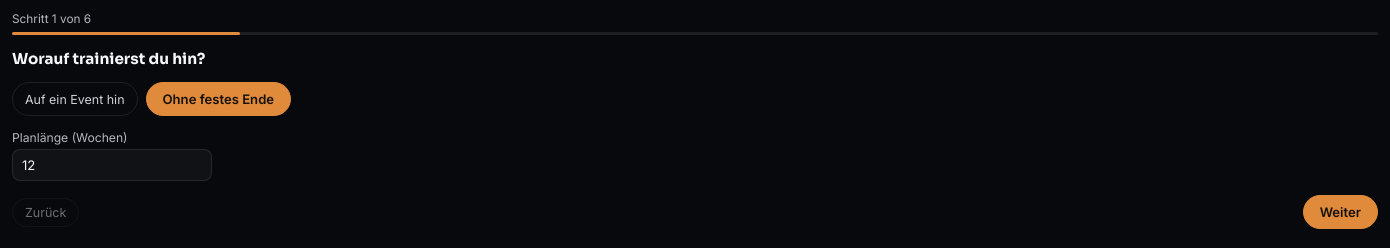
Test case: GuidedPlanQuestions › Event-Ziel mit vorhandenen Events: erstes Event ist vorgewählt
The image size is (1390, 248).
Click the button "Auf ein Event hin" at point(75, 99), box [12,82,138,116]
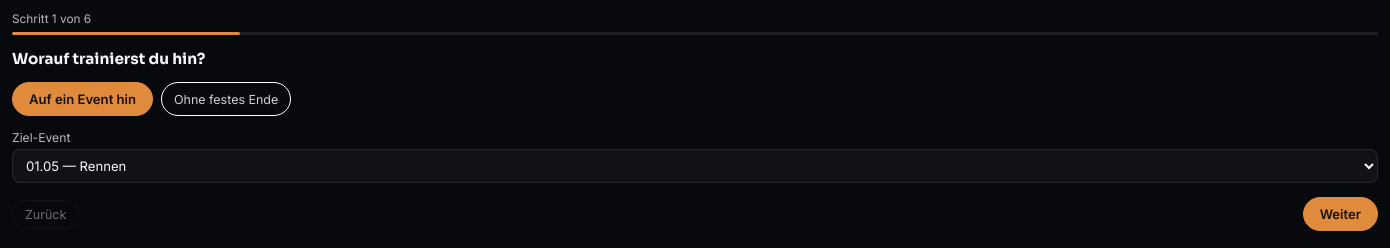
Expected: the dropdown labelled "Ziel-Event" shows "01.05 — Rennen", [12,149,1378,183]
Click the button "Weiter" at point(1340, 214), box [1303,197,1378,231]
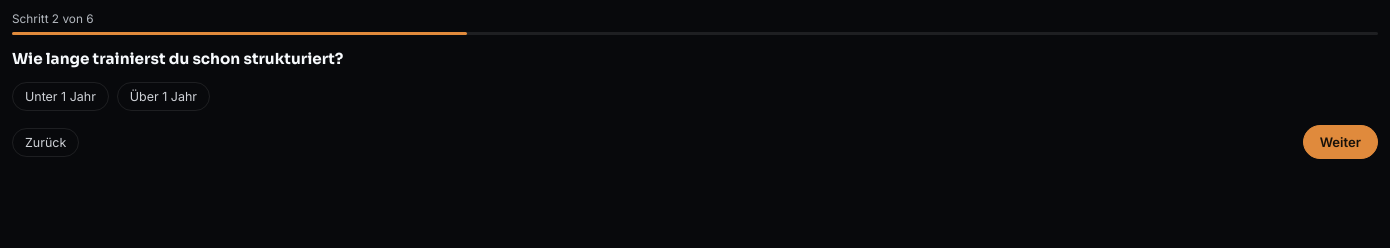
Expected: the text "Schritt 2 von 6" is shown, [12,12,94,26]
